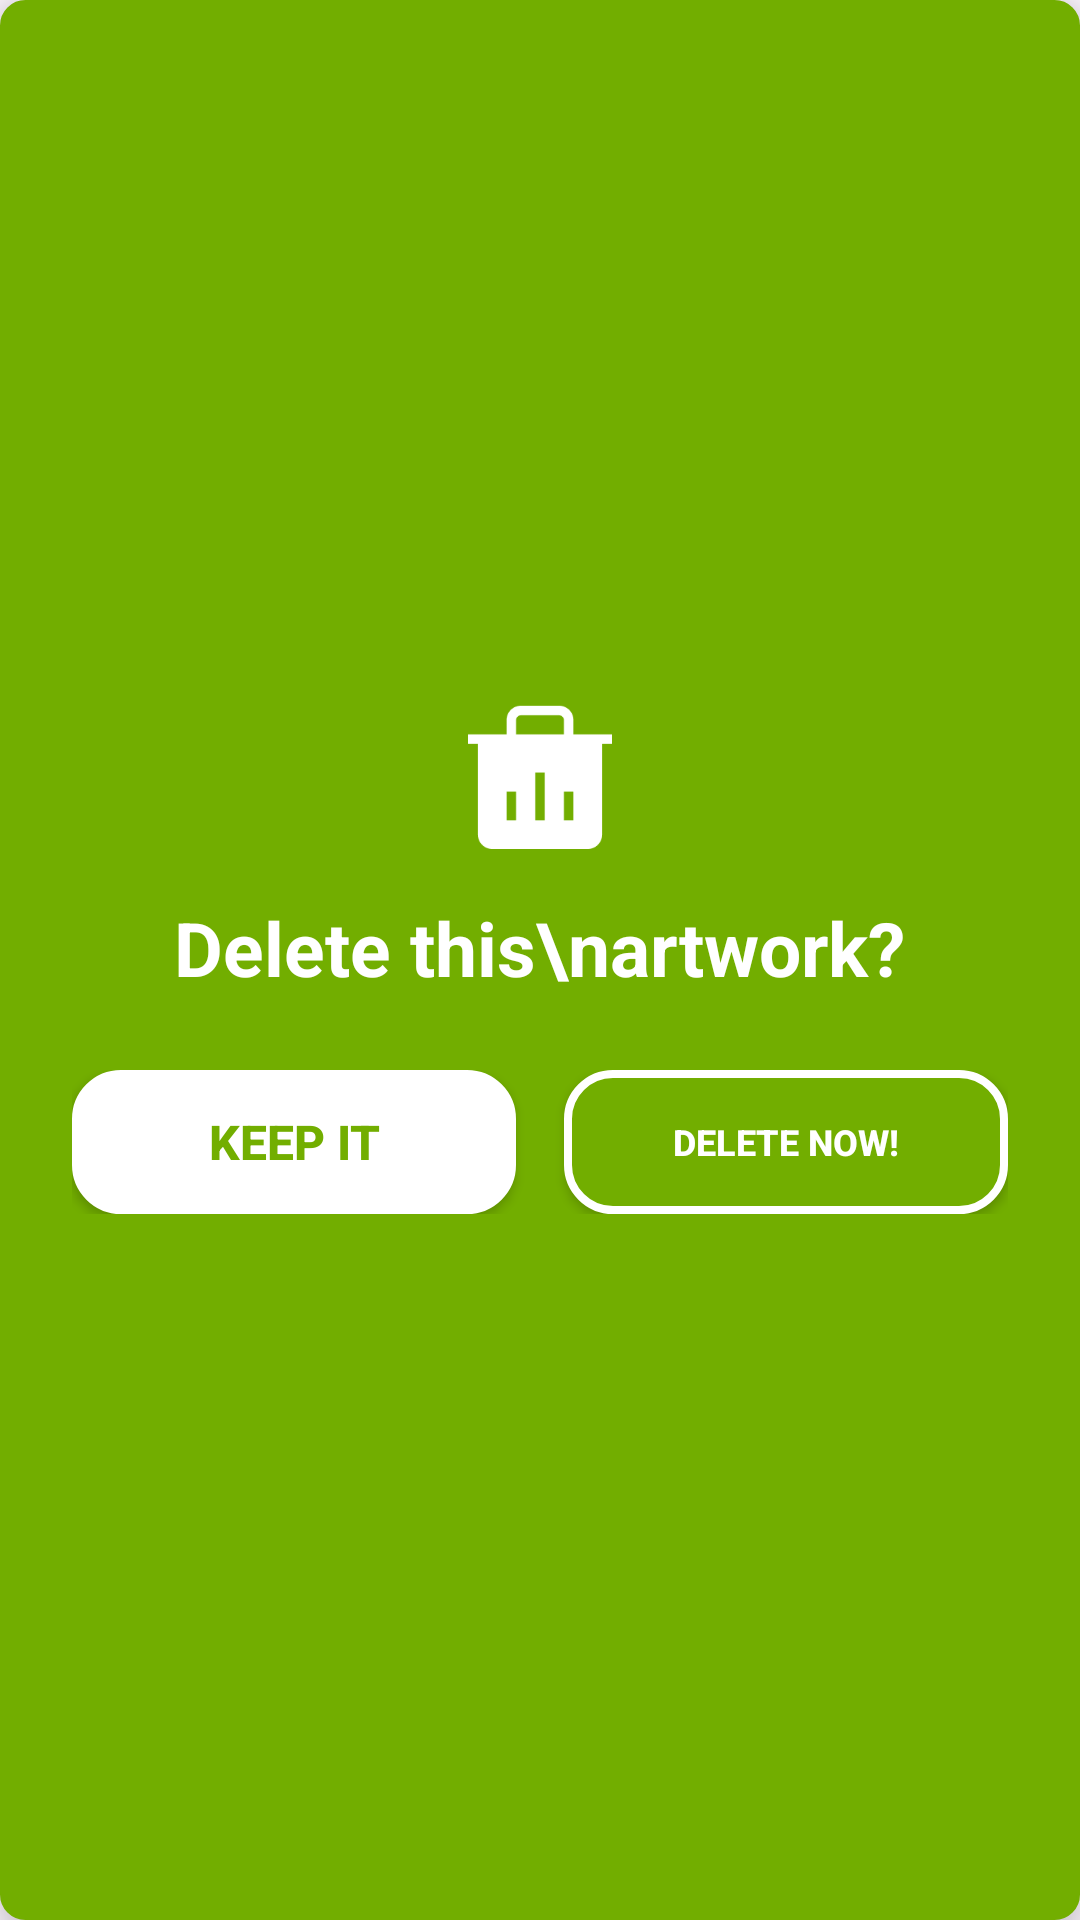

Point at icon controls on the screen. Image size 1080 x 1920, points as (x=x, y=y).
Trash icon: (x=540, y=777)
